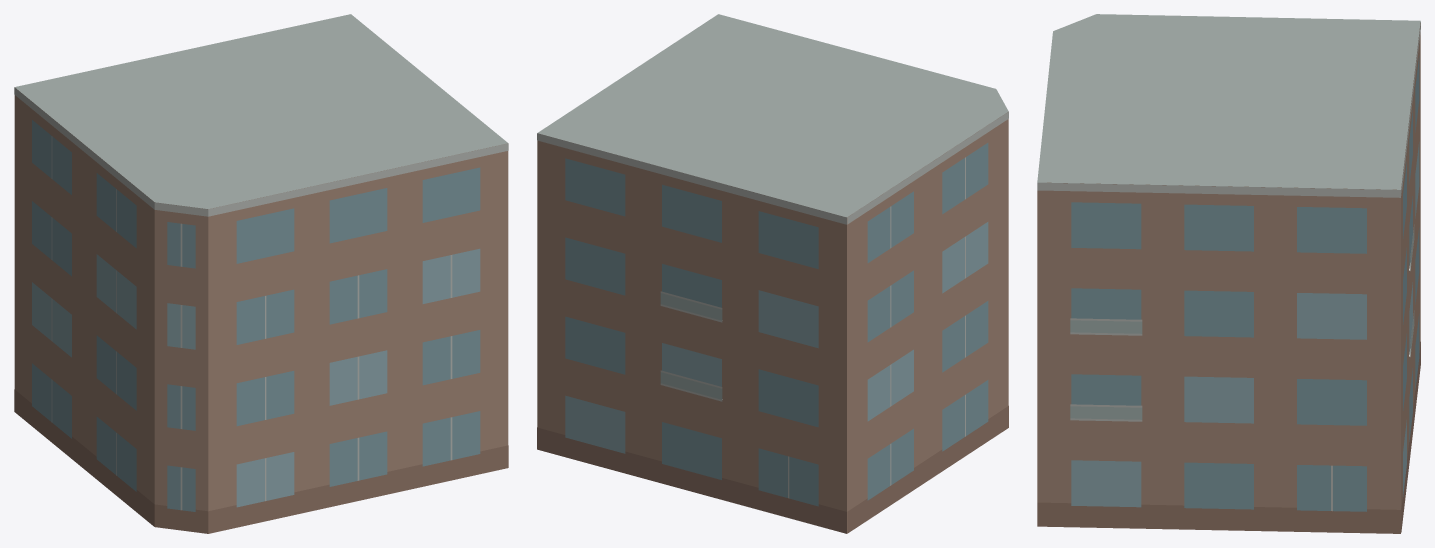
File: survey-upis-32655494.glb
3 renders of one model, left to right at view 1: azimuth 30°, elevation 25°; view 2: azimuth 150°, elevation 25°; view 3: azimuth 270°, elevation 25°, orthographic. The views are drawn at different scales.
Parts seen in each view (by area): view 1: survey-upis-32655494.tmp; view 2: survey-upis-32655494.tmp; view 3: survey-upis-32655494.tmp.
Boxes of the visible parts, x1,y1,x2,y2 form: survey-upis-32655494.tmp: [14, 14, 508, 533]; survey-upis-32655494.tmp: [537, 14, 1008, 533]; survey-upis-32655494.tmp: [1037, 14, 1420, 533].
Bounding box in the file's own units: 11.52 × 10.5 × 10.62.
